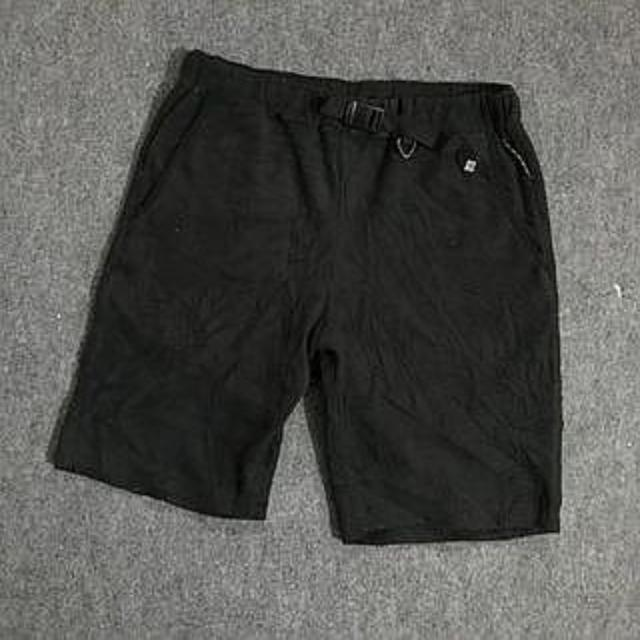SHORT: (42, 27, 608, 560)
